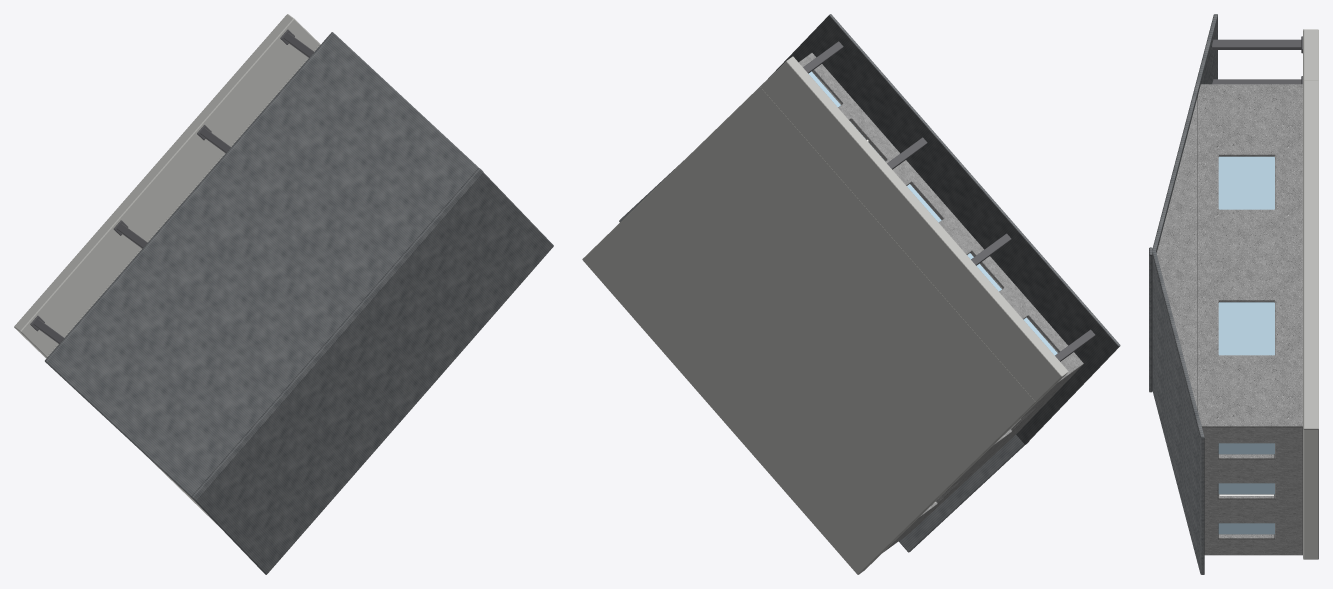
The picture shows the model from 3 angles, left to right: view 1: azimuth 30°, elevation 25°; view 2: azimuth 150°, elevation 25°; view 3: azimuth 270°, elevation 25°; orthographic projection. The views are drawn at different scales.
Parts seen in each view (by area): view 1: urn:npust:smart-agriculture-management-platform:building:edu (×3); view 2: urn:npust:smart-agriculture-management-platform:building:edu (×5); view 3: urn:npust:smart-agriculture-management-platform:building:edu (×5).
Part boxes in pixels (x1=…): urn:npust:smart-agriculture-management-platform:building:edu (×3): x1=14, y1=14, x2=553, y2=574; urn:npust:smart-agriculture-management-platform:building:edu (×5): x1=582, y1=14, x2=1120, y2=574; urn:npust:smart-agriculture-management-platform:building:edu (×5): x1=1149, y1=14, x2=1318, y2=574.
Size of the model in its own units: 19.07 by 18.87 by 4.83.
Materials: 6 (2 with a texture image).
